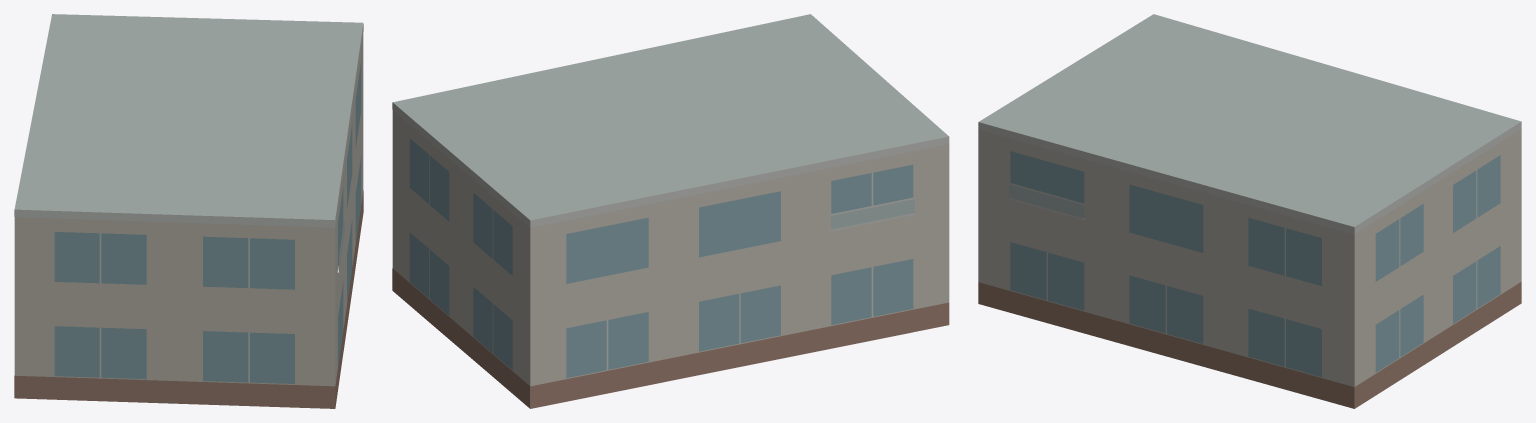
The model's file is survey-upis-32698828.glb.
3 renders of one model, left to right at view 1: azimuth 30°, elevation 25°; view 2: azimuth 150°, elevation 25°; view 3: azimuth 270°, elevation 25°, orthographic. The views are drawn at different scales.
Visible parts, largest first — view 1: survey-upis-32698828.tmp; view 2: survey-upis-32698828.tmp; view 3: survey-upis-32698828.tmp.
Boxes of the visible parts, x1,y1,x2,y2 form: survey-upis-32698828.tmp: (14,14,363,408); survey-upis-32698828.tmp: (392,14,949,408); survey-upis-32698828.tmp: (978,14,1521,408).
Bounding box in the file's own units: 15.34 × 6.1 × 16.53.
